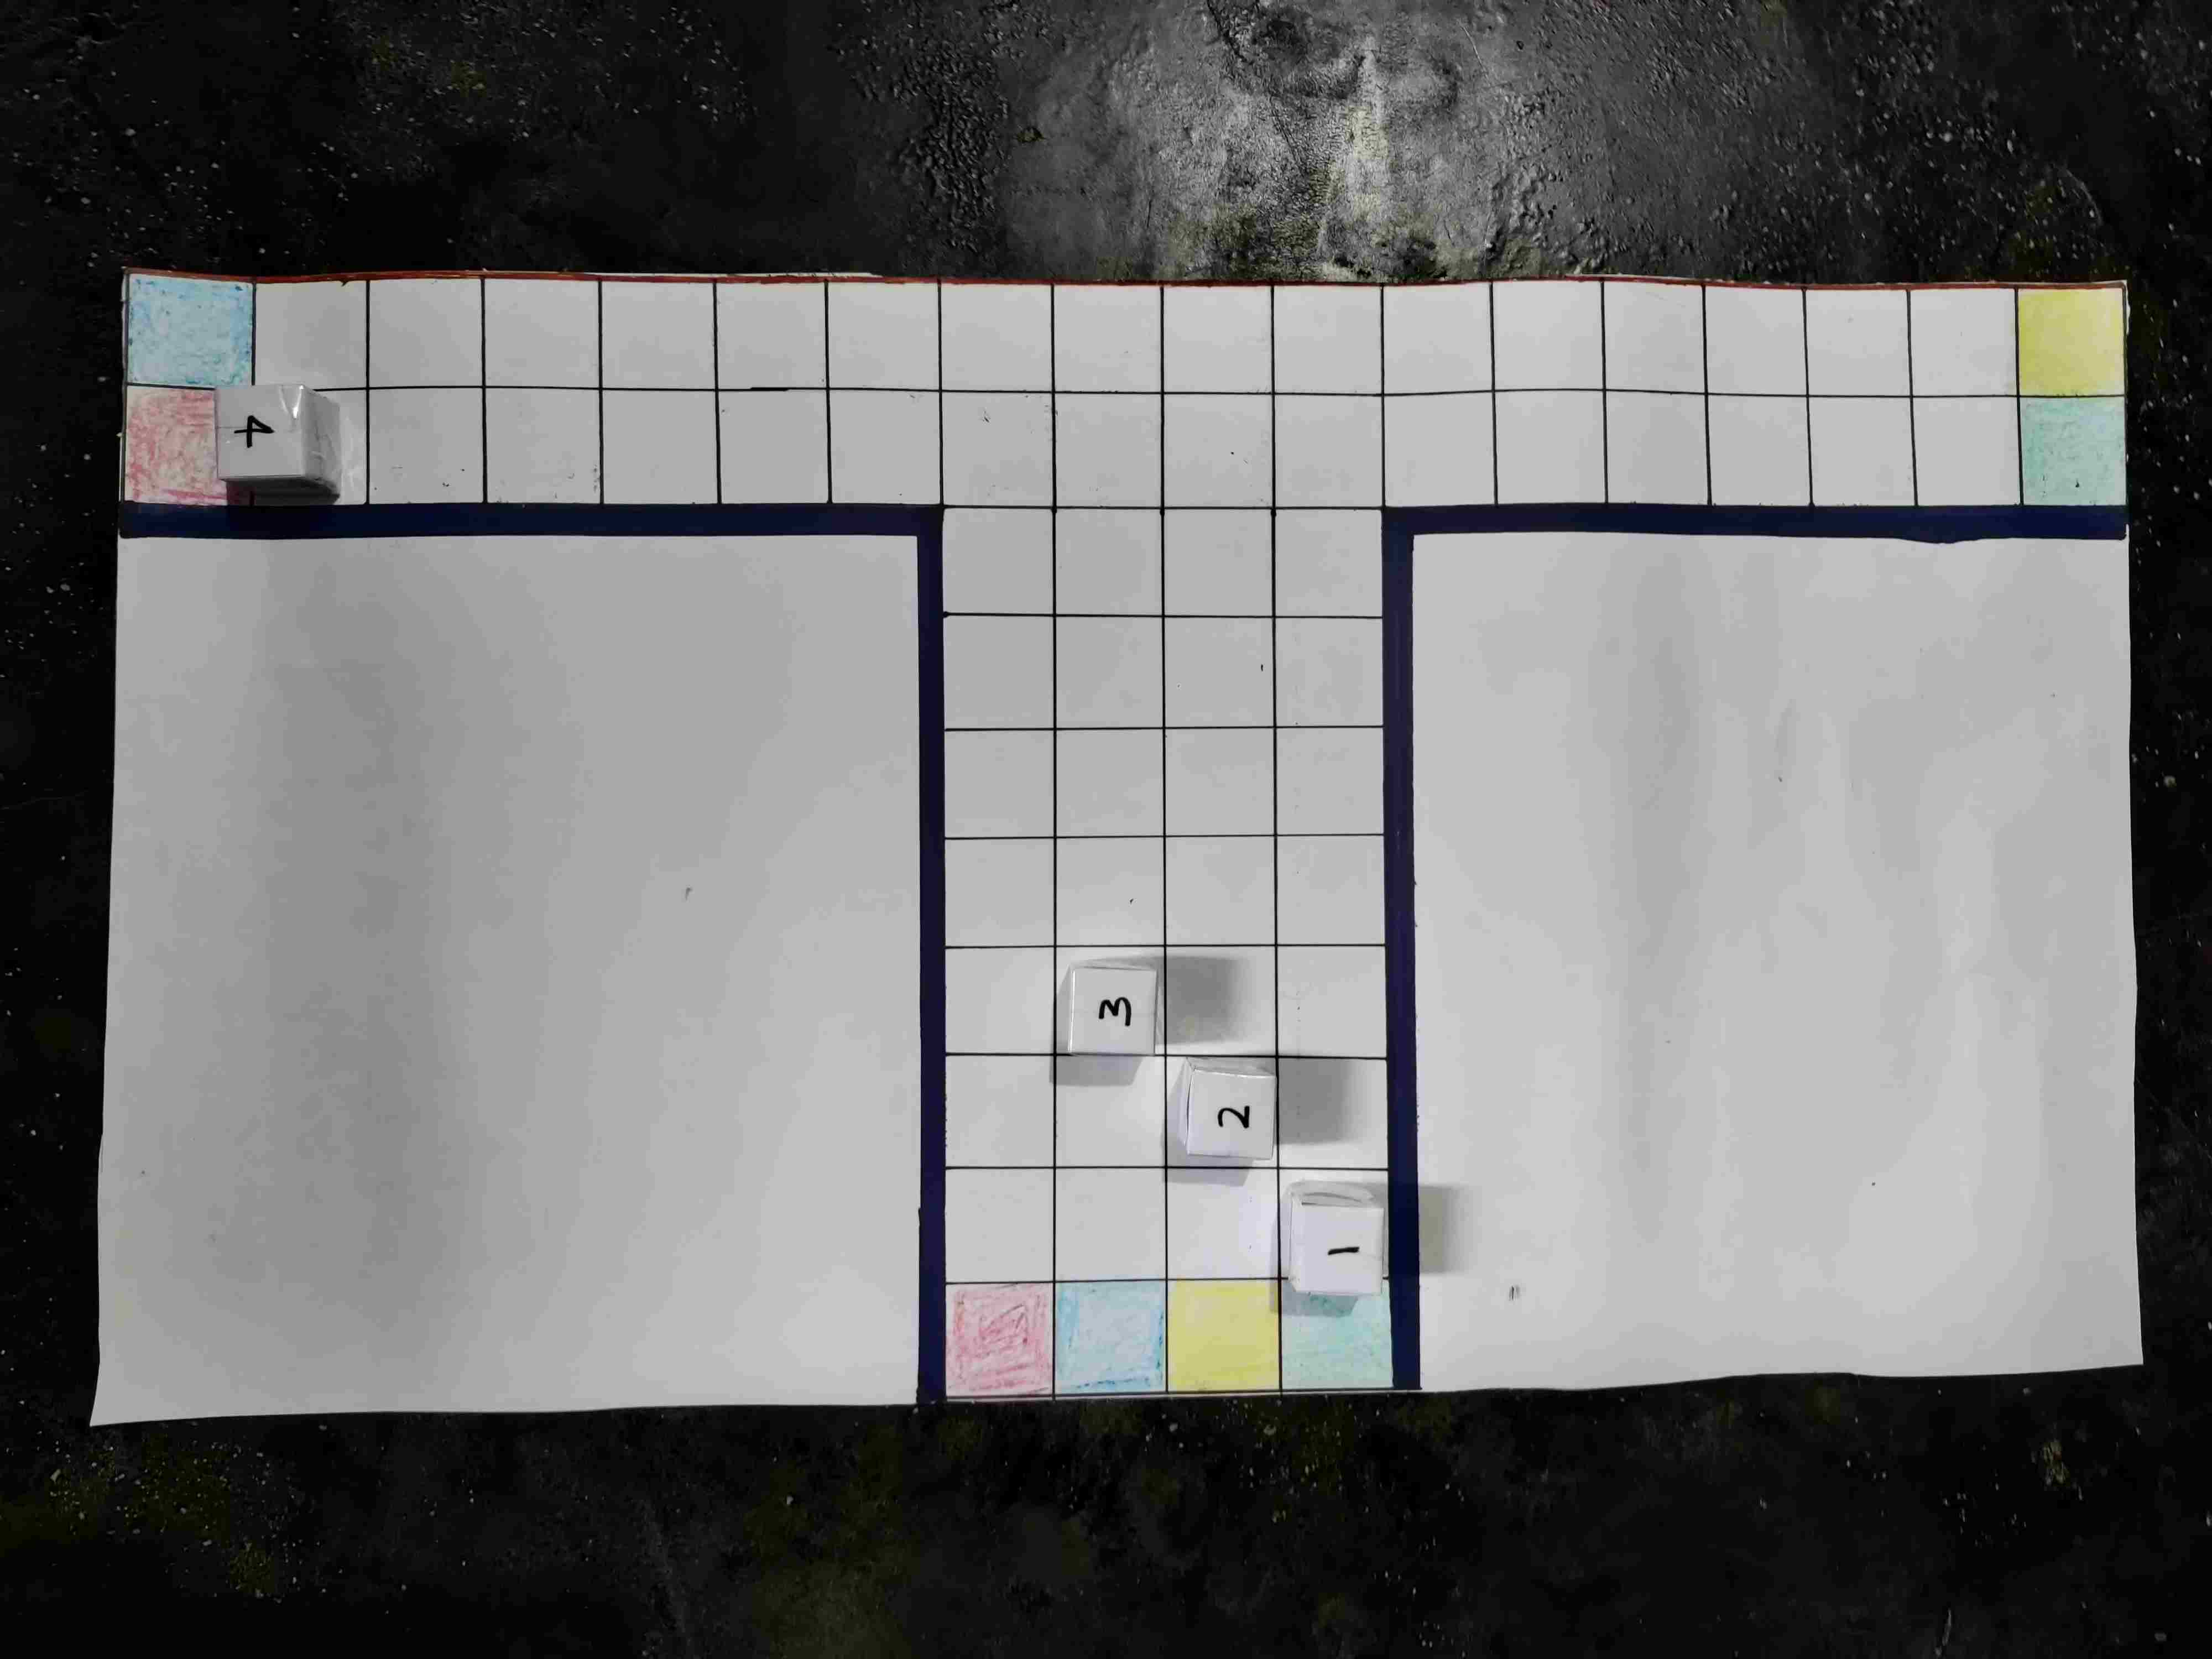arena: (106, 263, 2111, 1321)
bot: (1035, 1136, 1118, 1234), (927, 378, 1014, 469), (1151, 1152, 1233, 1236), (1925, 1119, 2006, 1194)
